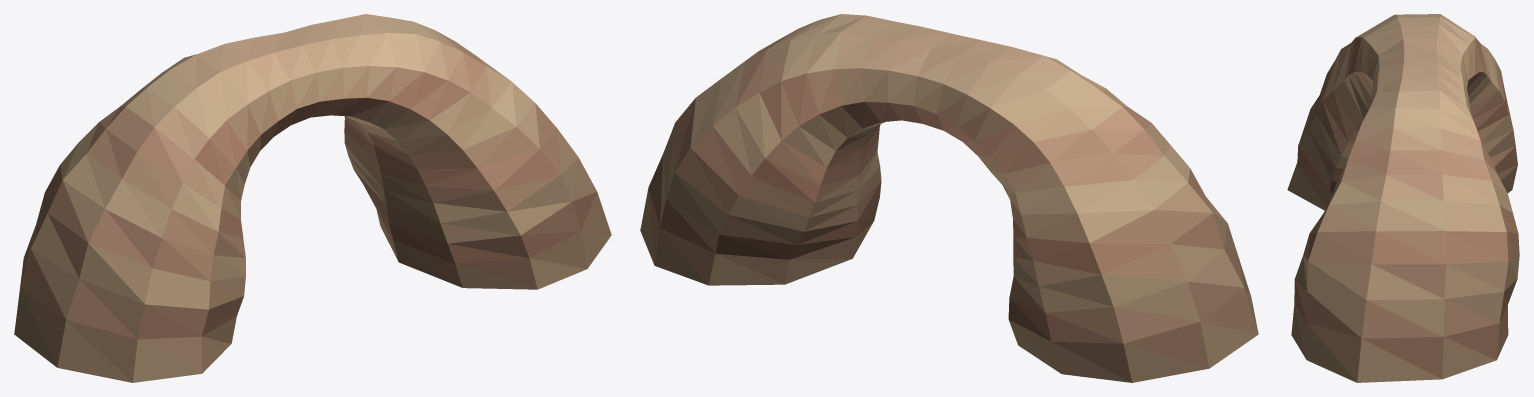
File: arch_3.glb
3 renders of one model, left to right at view 1: azimuth 30°, elevation 25°; view 2: azimuth 150°, elevation 25°; view 3: azimuth 270°, elevation 25°, orthographic. The views are drawn at different scales.
Visible parts, largest first — view 1: rock; view 2: rock; view 3: rock.
Boxes of the visible parts, left/top/right/bottom form: rock: left=14, top=14, right=611, bottom=382; rock: left=640, top=14, right=1258, bottom=382; rock: left=1287, top=14, right=1519, bottom=382.
Bounding box in the file's own units: 16.45 × 6.84 × 6.81.
